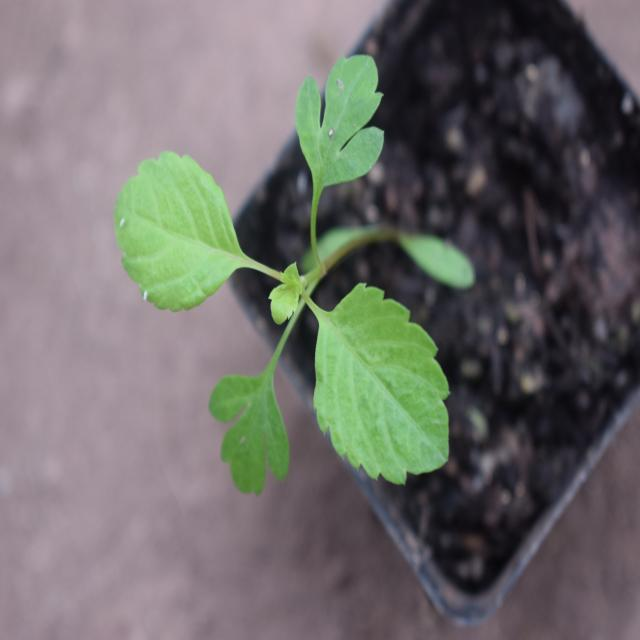Bidens pilosa: (99, 48, 463, 526)
